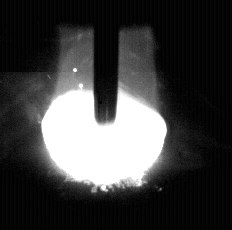arame: (94, 0, 119, 125)
poca: (40, 0, 168, 230)
